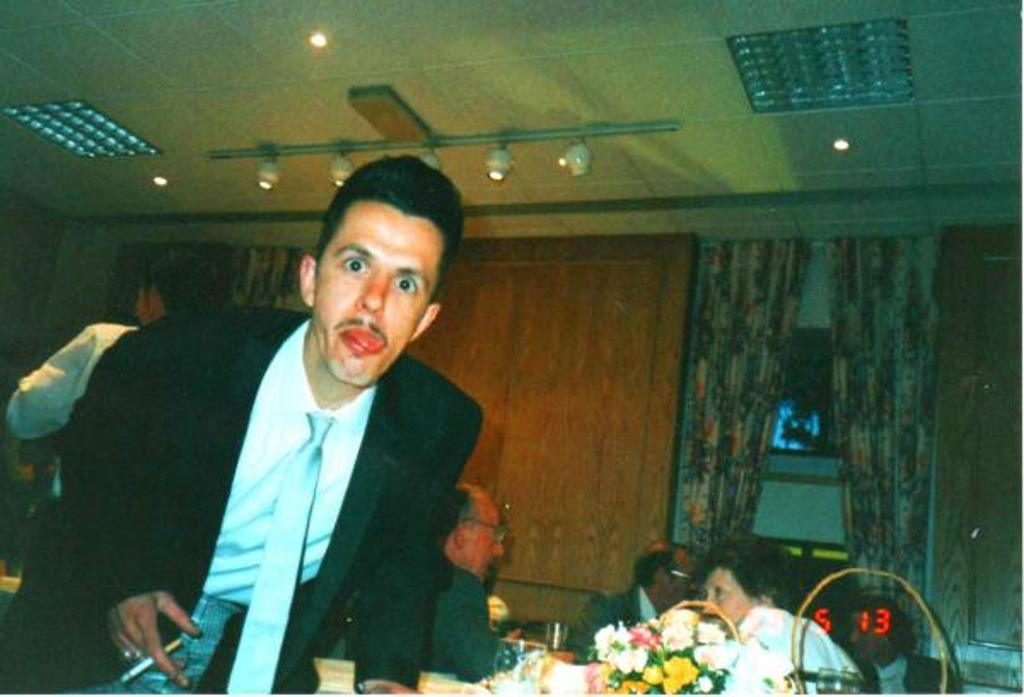face: (313, 216, 440, 383), (466, 508, 505, 588), (703, 580, 756, 637), (845, 617, 884, 665), (660, 563, 696, 614)
